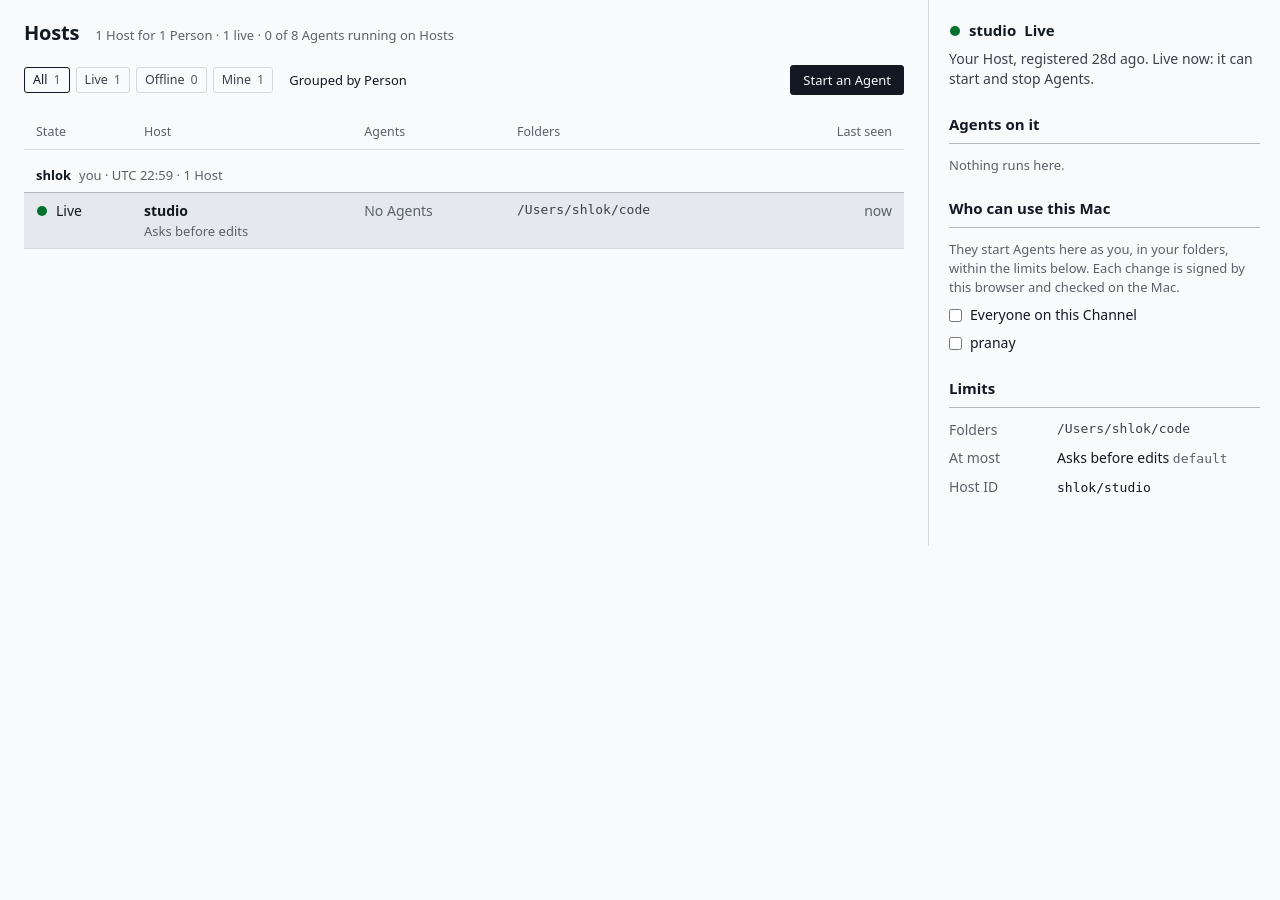
Test: sharing a Host from the Hosts page › shows the Host's refusal with the command that trusts this browser, and leaves the toggle off
Click the checkbox labelled "Everyone on this Channel": [956, 315] box [949,309,962,322]
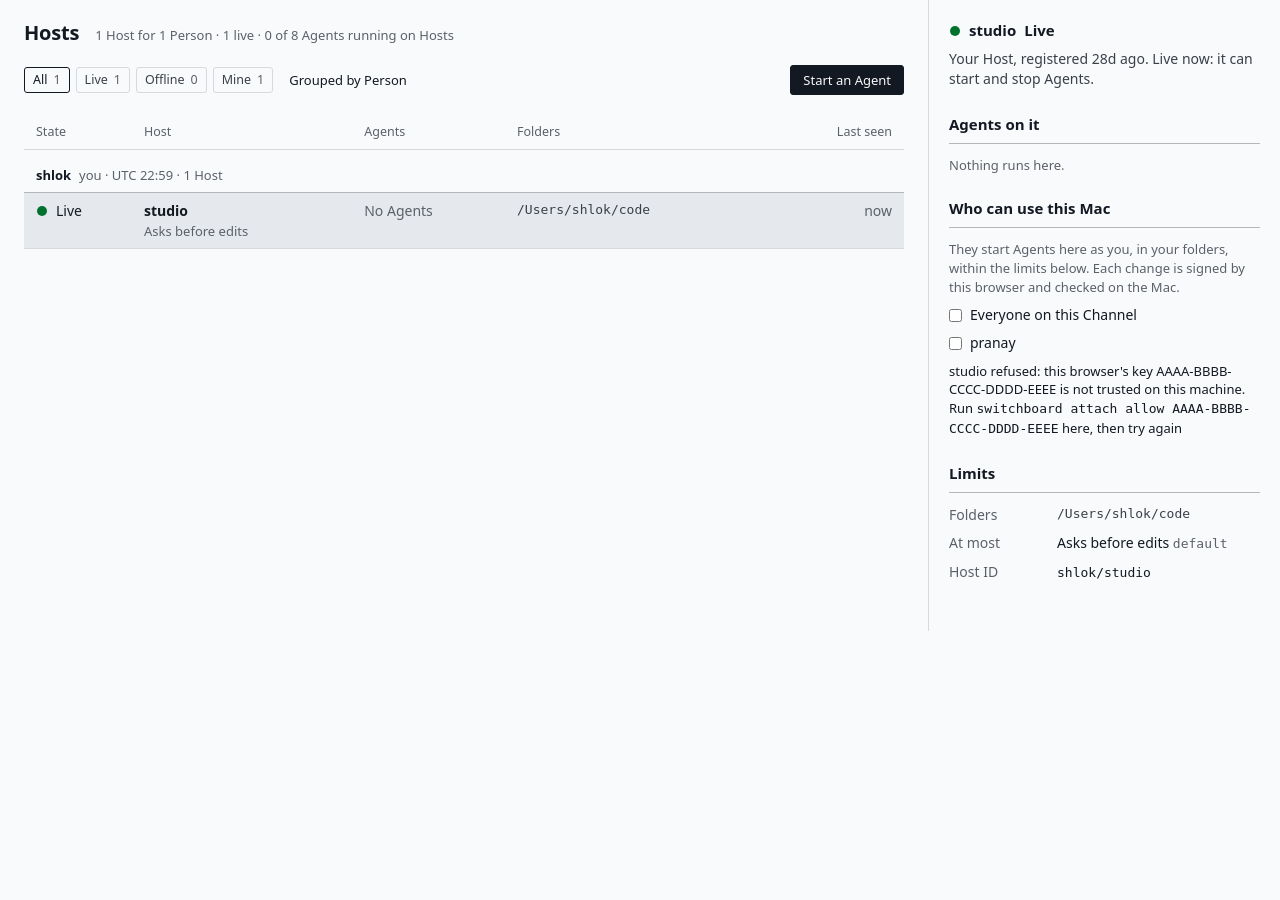
Now the message shows "switchboard attach allow AAAA-BBBB-CCCC-DDDD-EEEE", box [949,401,1250,436]
